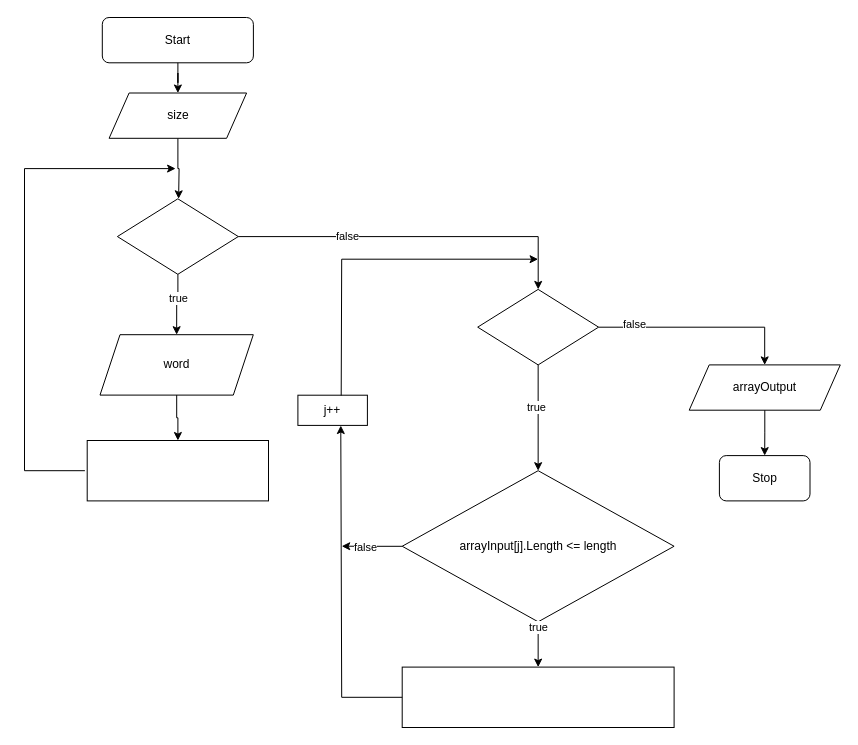
This 858x745 diagram has some shape labels left out. Here are the shapes that lost their labels. From the top down, the centre of each, then its label:
[177,236]: i < size
[538,326]: j < size
[177,470]: arrayInput[i] = word i++
[537,697]: arrayOutput[pos] = arrayInput[j] pos++
